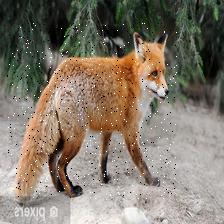fox: (7, 23, 177, 199)
